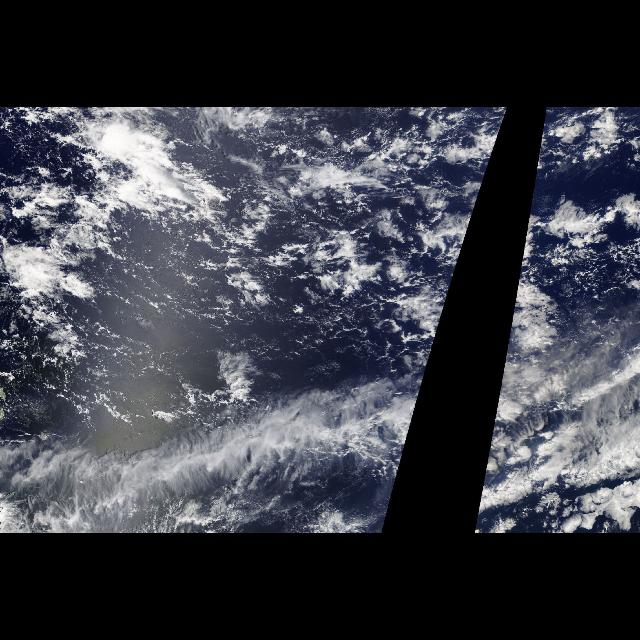Gravel: (8, 180, 476, 420), (502, 241, 524, 369)
